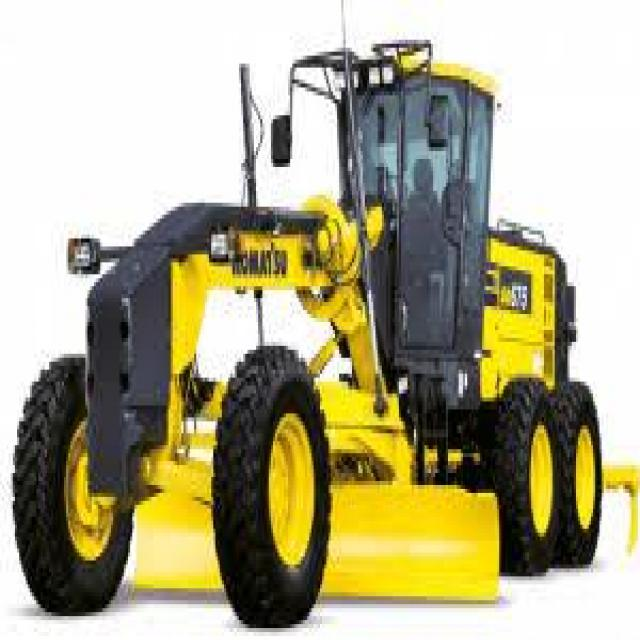Grader: (4, 16, 630, 636)
